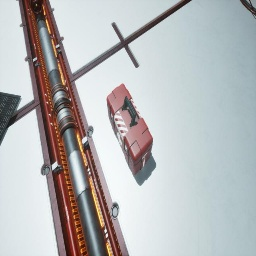FirstAidBox ,: (107, 83, 153, 175)
NitrogenTank ,: (28, 0, 43, 15)
